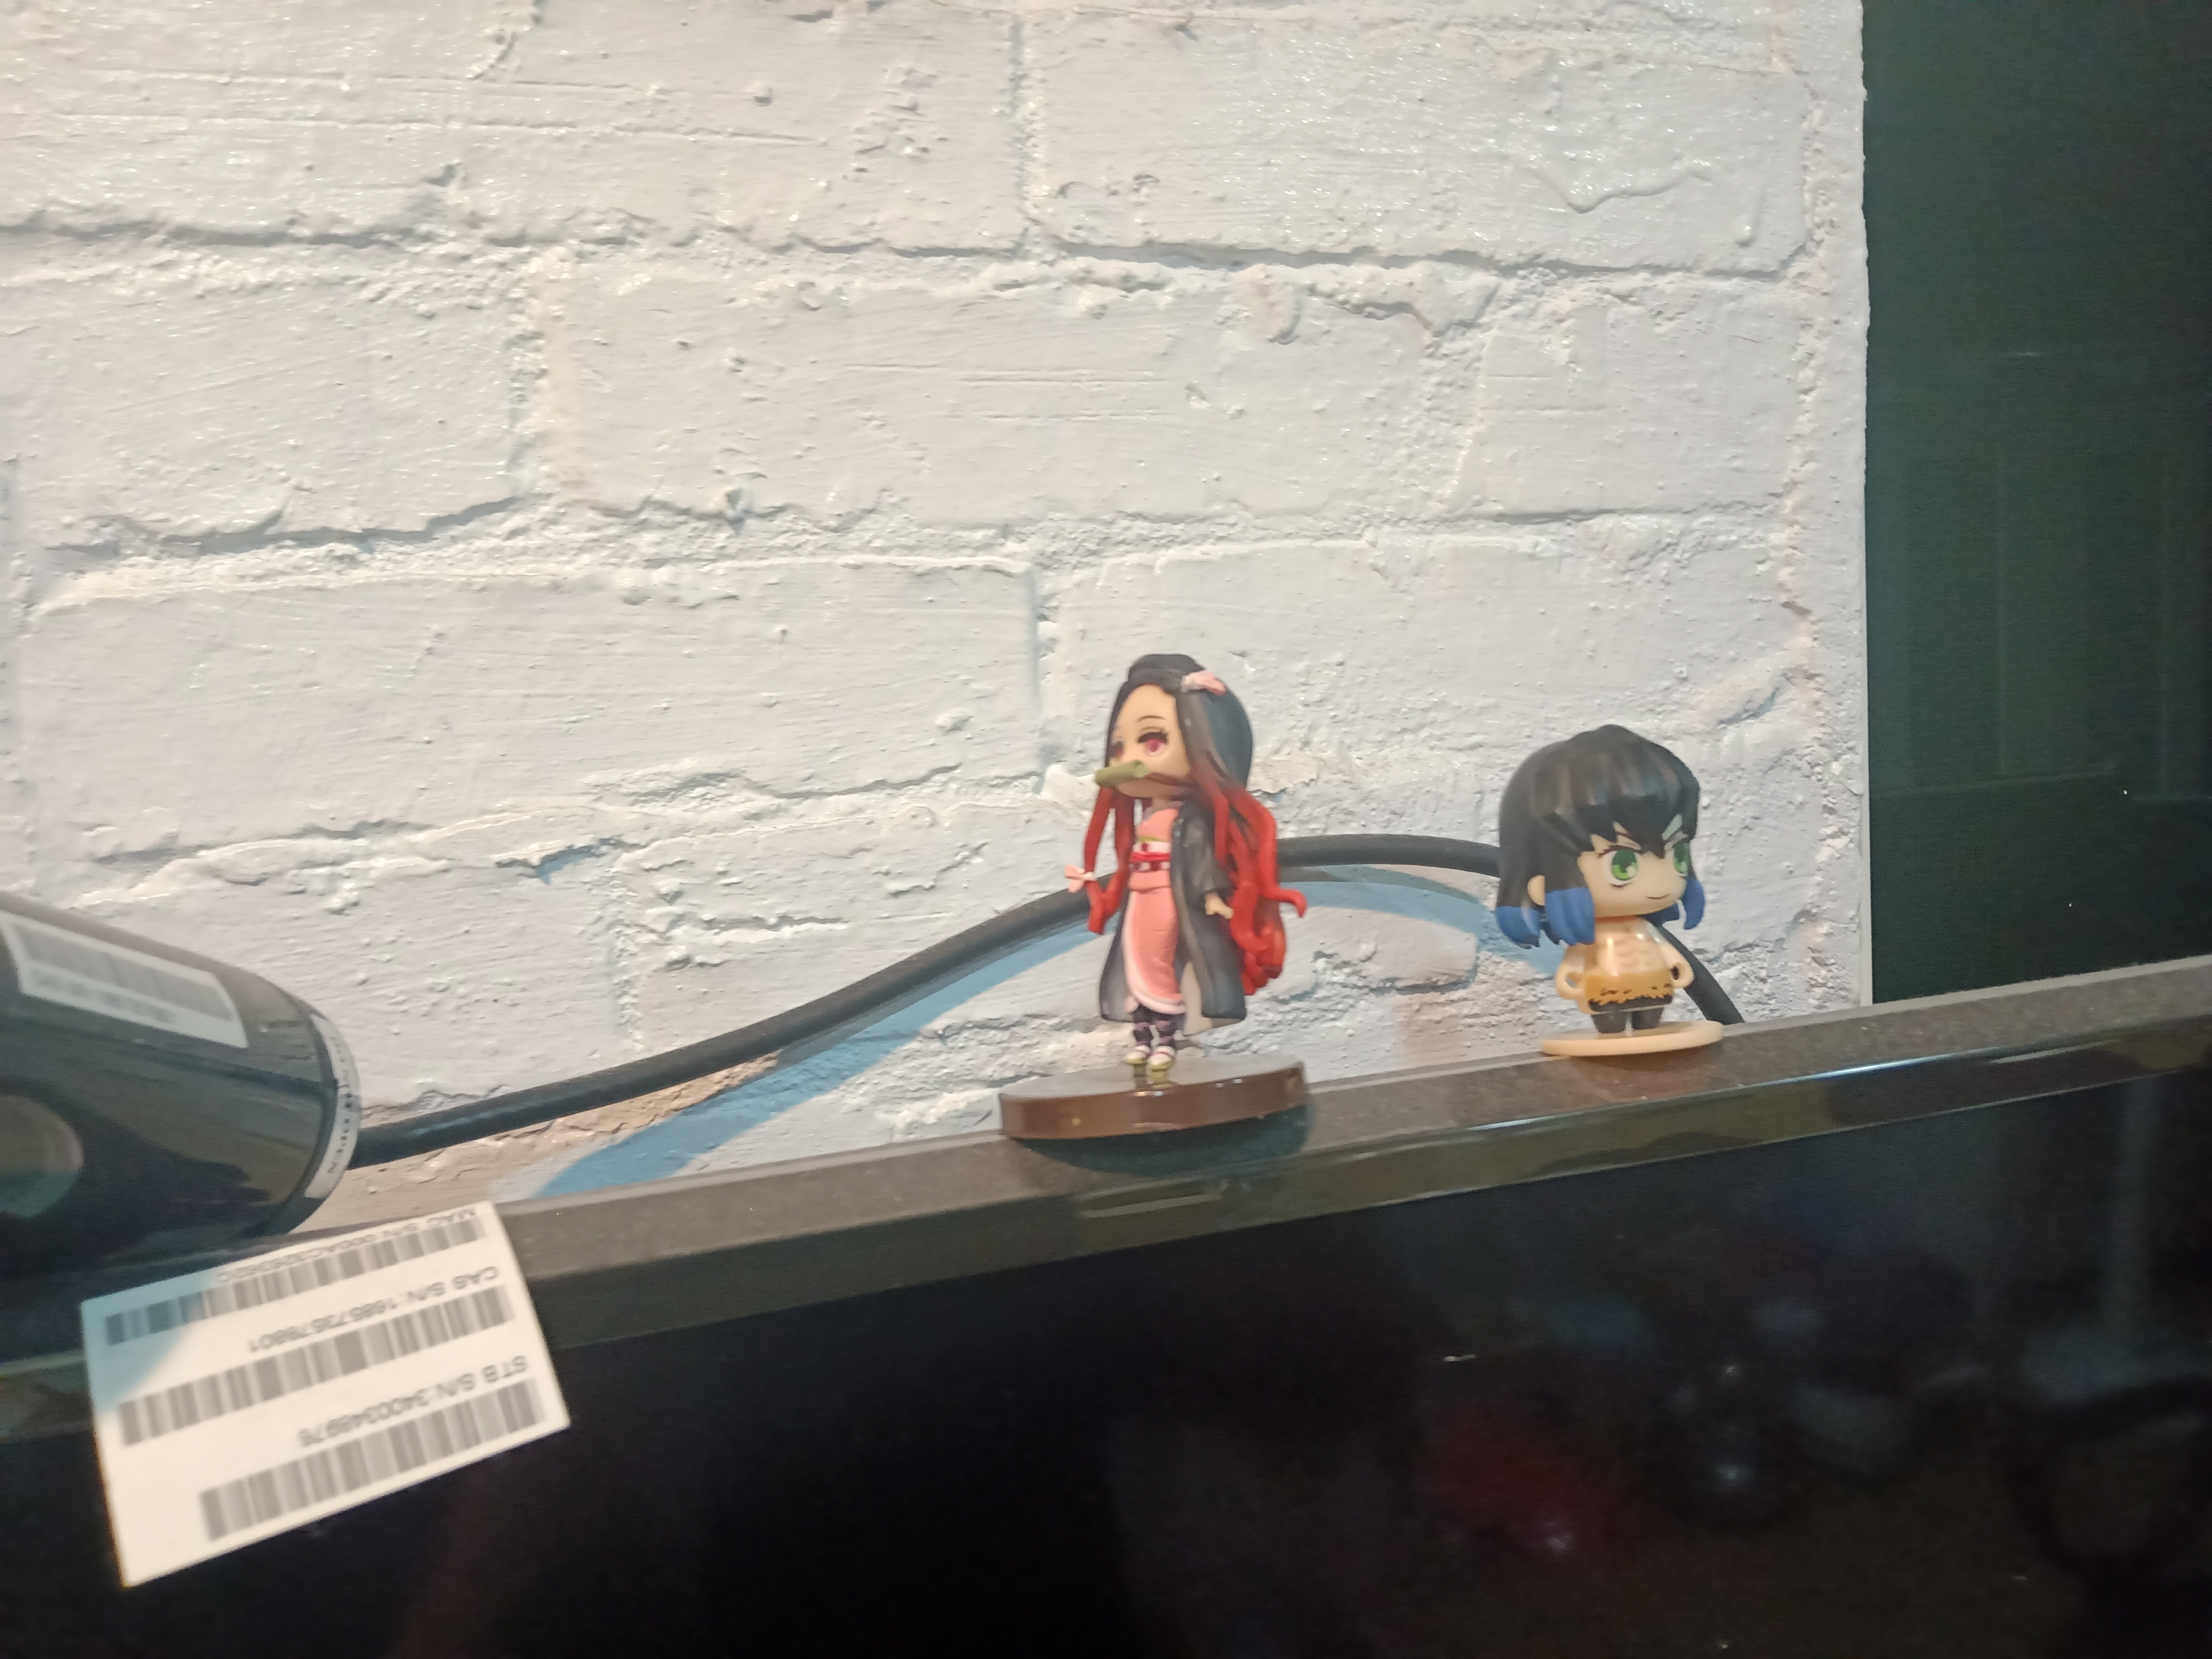Inosuke: (1460, 716, 1735, 1072)
Nezuko: (981, 634, 1350, 1166)
